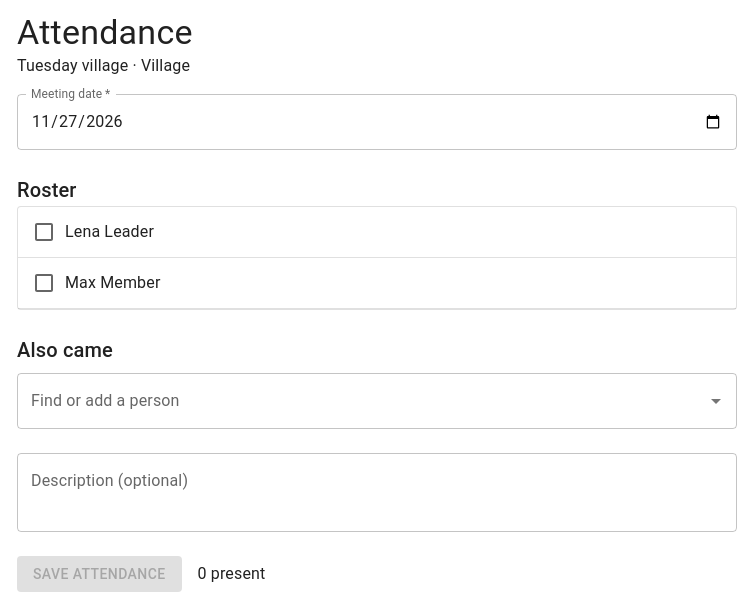
TakeAttendance › TakeAttendance_SearchFindsSomeoneOnTheRoster_TicksThemOnTheRoster
This screenshot has width=755, height=612.
In the dropdown labelled "Find or add a person": (362, 401) [26,382,698,420], type "Max"
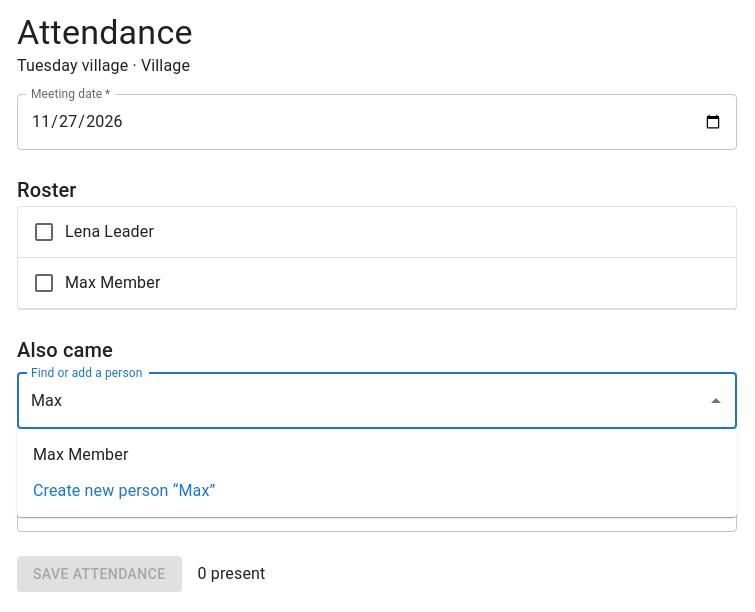
Click the option "Max Member": (81, 454) [33,445,128,464]
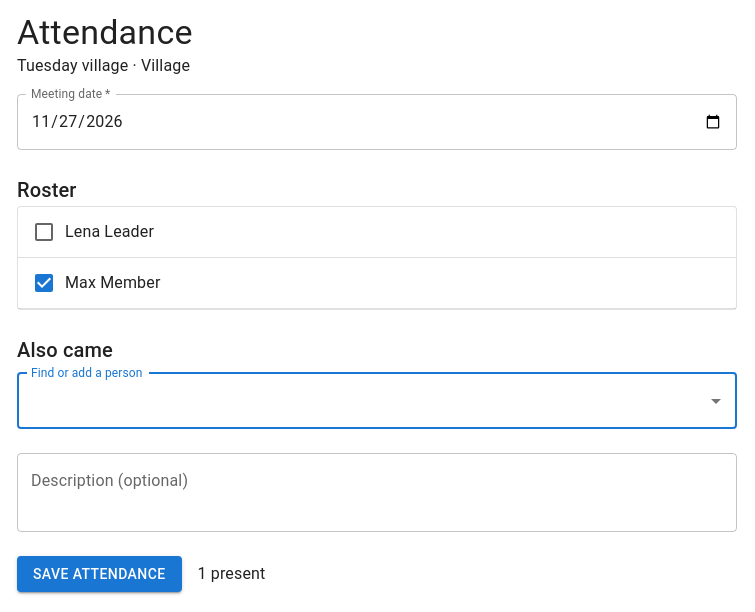
Expected: the checkbox labelled "Max Member" is checked, [32,271,160,295]
